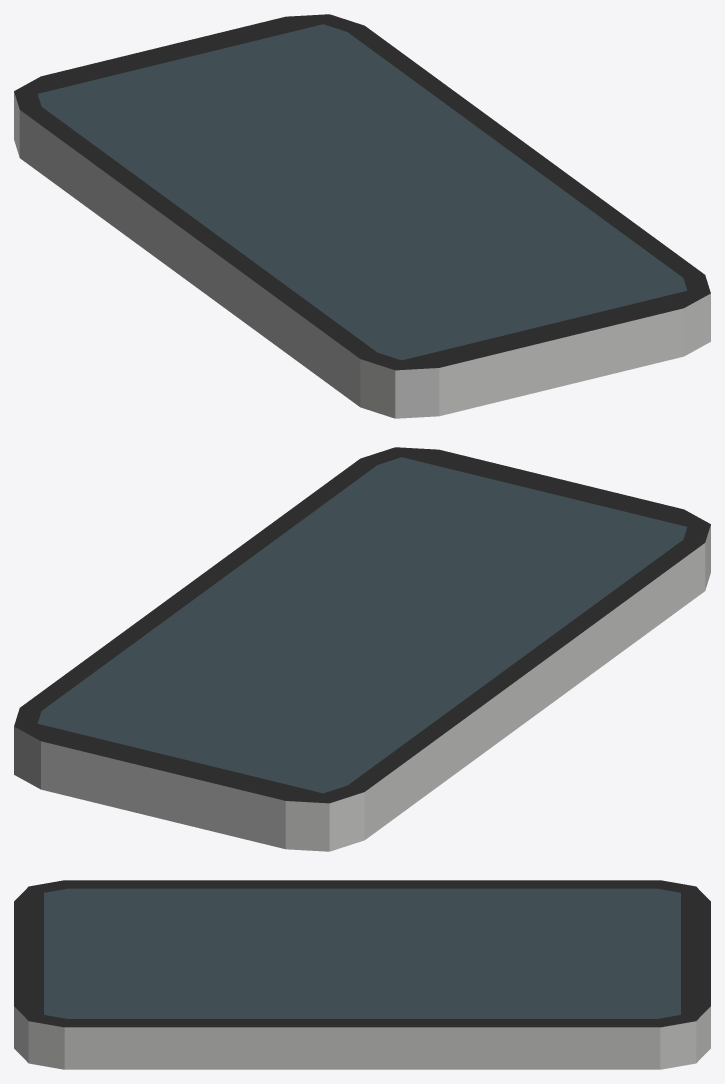
The model's file is electronics_phone.fbx.
The picture shows the model from 3 angles, top to bottom: view 1: azimuth 30°, elevation 25°; view 2: azimuth 150°, elevation 25°; view 3: azimuth 270°, elevation 25°; orthographic projection. The views are drawn at different scales.
Parts seen in each view (by area): view 1: electronics_phone; view 2: electronics_phone; view 3: electronics_phone.
Boxes of the visible parts, x1=… form: electronics_phone: x1=14, y1=14, x2=710, y2=418; electronics_phone: x1=14, y1=447, x2=710, y2=851; electronics_phone: x1=14, y1=880, x2=710, y2=1069.
Bounding box in the file's own units: 100 × 13.4 × 200.
